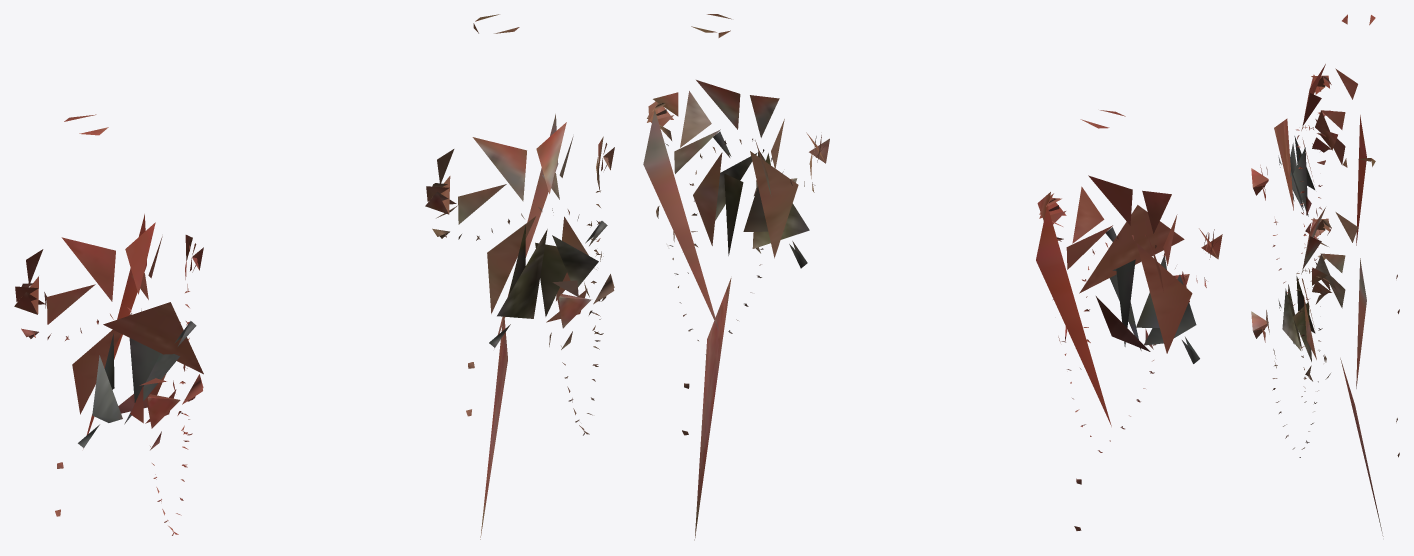
Rendered from hydrant.glb.
3 renders of one model, left to right at view 1: azimuth 30°, elevation 25°; view 2: azimuth 150°, elevation 25°; view 3: azimuth 270°, elevation 25°, orthographic. The views are drawn at different scales.
Visible parts, largest first — view 1: fire_hydrant; view 2: fire_hydrant; view 3: fire_hydrant.
Part boxes in pixels (bbox=[...]): fire_hydrant: bbox=[14, 14, 614, 539]; fire_hydrant: bbox=[643, 14, 1222, 540]; fire_hydrant: bbox=[1251, 14, 1399, 536].
Bounding box in the file's own units: 0.8734 × 0.7412 × 0.2632.
Materials: 2 (2 with a texture image).
